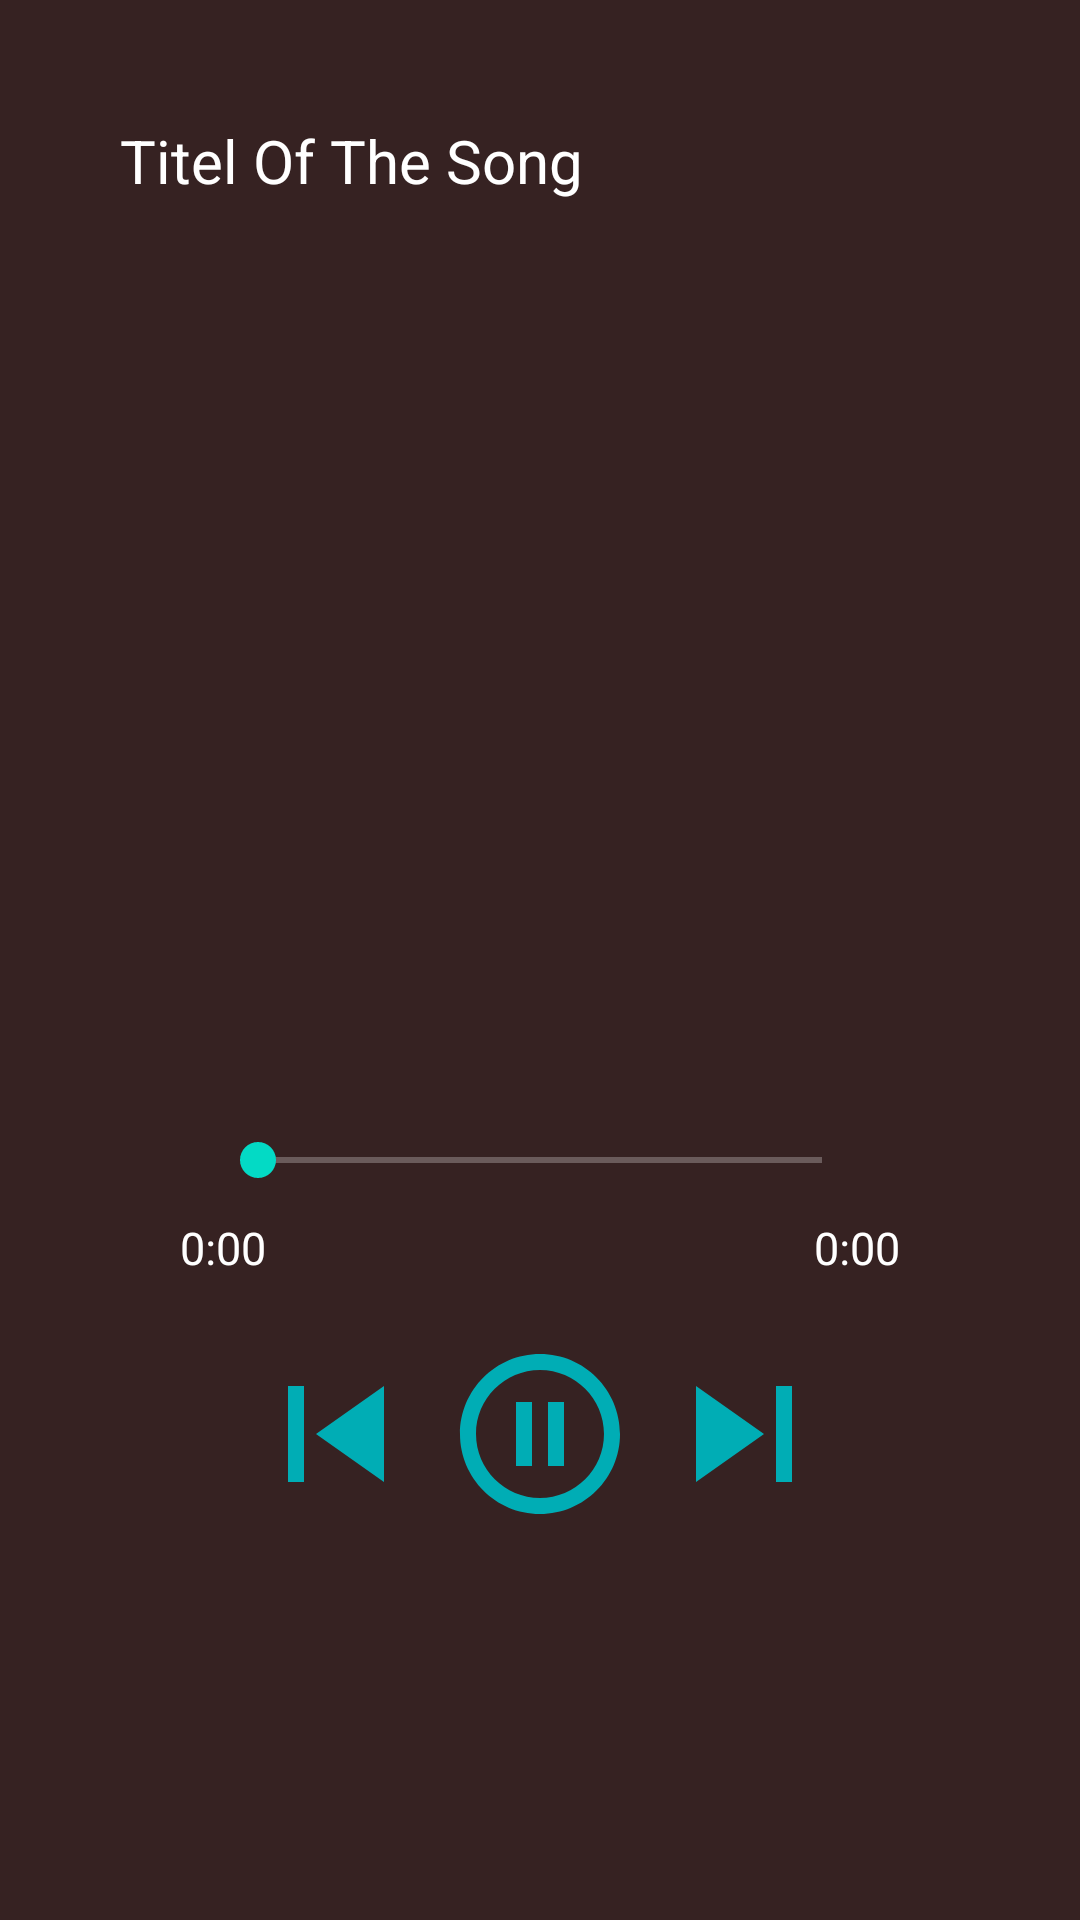

Icon bounding boxes for this 1080px×1920px phone screenshot, format (x1, y1, x2, y2):
pause circle: (460, 1354, 620, 1514)
skip next: (696, 1386, 792, 1482)
skip previous: (288, 1386, 384, 1482)
